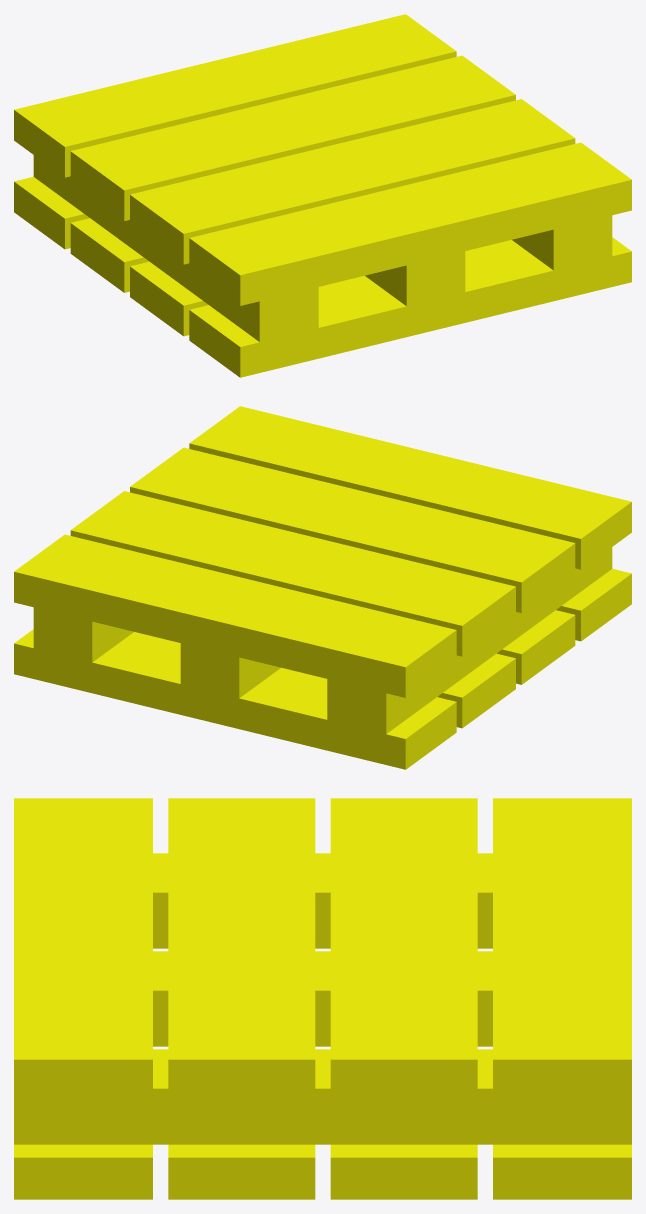
The model's file is kaykit-pallet-small.glb.
The picture shows the model from 3 angles, top to bottom: view 1: azimuth 30°, elevation 25°; view 2: azimuth 150°, elevation 25°; view 3: azimuth 270°, elevation 25°; orthographic projection. The views are drawn at different scales.
Parts seen in each view (by area): view 1: Pallet_Small; view 2: Pallet_Small; view 3: Pallet_Small.
Boxes of the visible parts, x1=… form: Pallet_Small: x1=14, y1=14, x2=631, y2=377; Pallet_Small: x1=14, y1=406, x2=631, y2=769; Pallet_Small: x1=14, y1=798, x2=631, y2=1199.
Bounding box in the file's own units: 2 × 0.5001 × 2.
